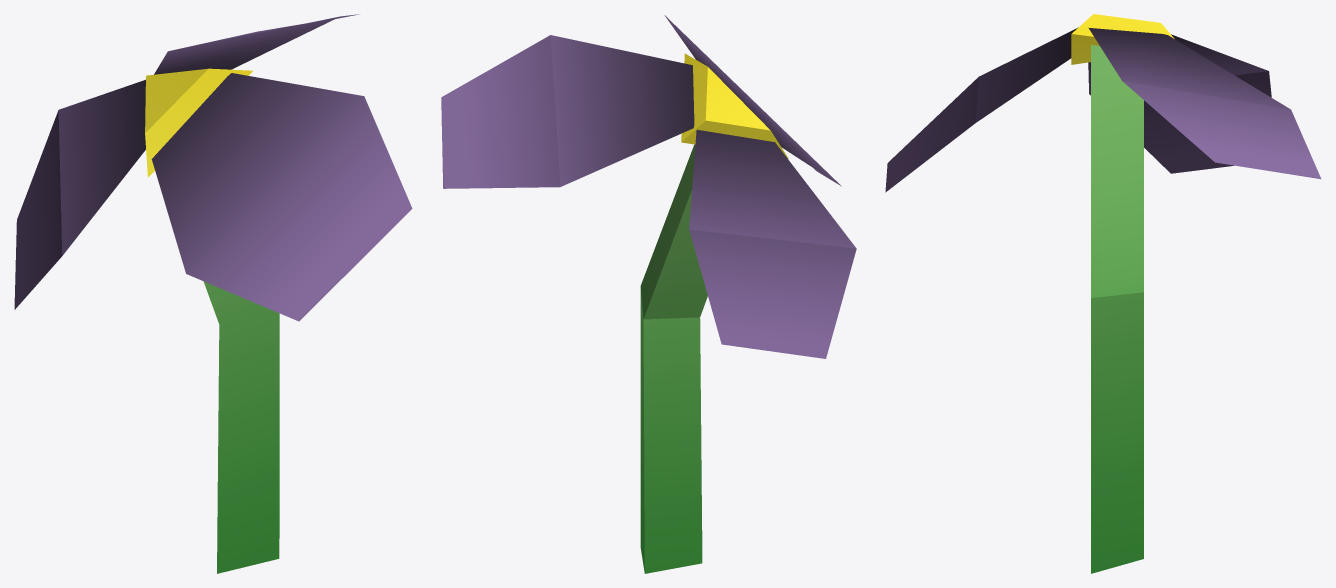
File: flower1.fbx
3 renders of one model, left to right at view 1: azimuth 30°, elevation 25°; view 2: azimuth 150°, elevation 25°; view 3: azimuth 270°, elevation 25°, orthographic. The views are drawn at different scales.
Visible parts, largest first — view 1: flower1; view 2: flower1; view 3: flower1.
Part boxes in pixels (x1,y1,x2,y2): flower1: [14, 14, 412, 573]; flower1: [441, 15, 856, 573]; flower1: [885, 14, 1321, 573].
Size of the model in its own units: 19.19 by 25.49 by 18.95.
